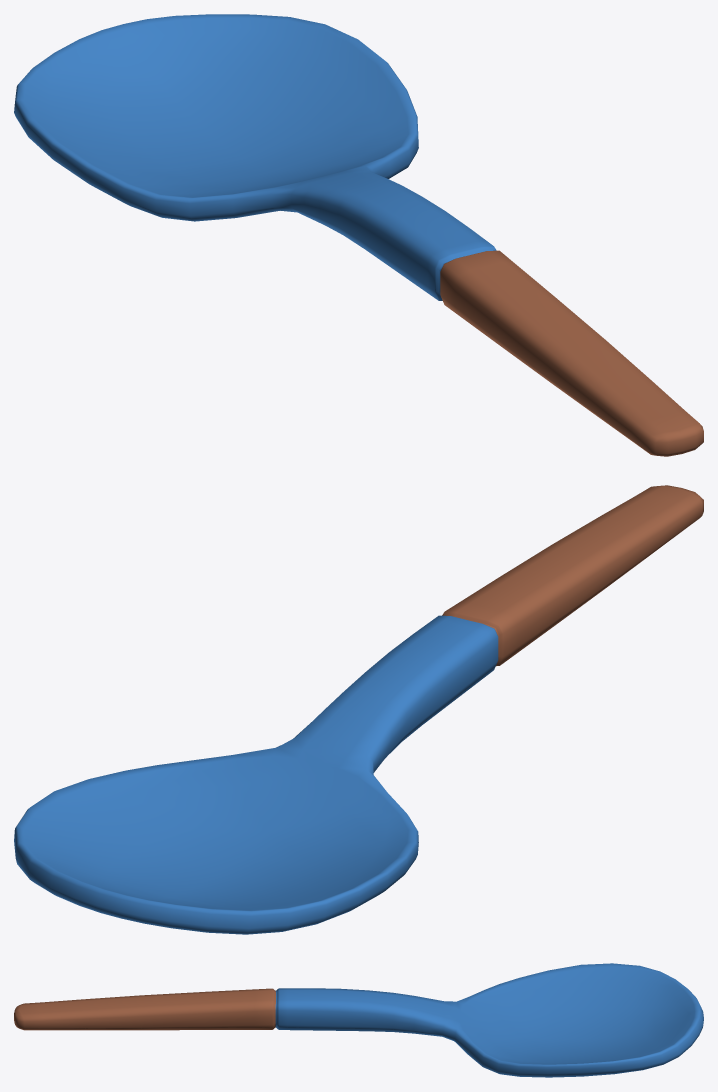
The model's file is spatula.fbx.
3 renders of one model, top to bottom at view 1: azimuth 30°, elevation 25°; view 2: azimuth 150°, elevation 25°; view 3: azimuth 270°, elevation 25°, orthographic. The views are drawn at different scales.
Visible parts, largest first — view 1: spatula; view 2: spatula; view 3: spatula.
Boxes of the visible parts, box(x1,y1,x2,y2) form: spatula: box(14, 14, 703, 456); spatula: box(14, 485, 703, 934); spatula: box(14, 963, 703, 1077).
Bounding box in the file's own units: 20.46 × 5.35 × 59.47.
